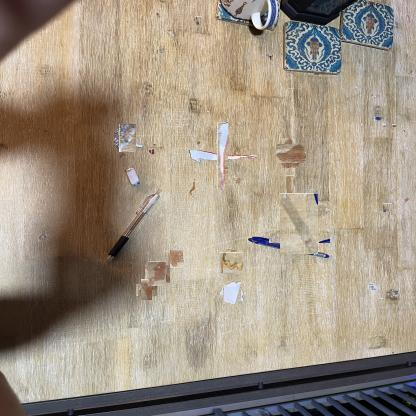dirty: (275, 199, 324, 249), (203, 137, 243, 176), (116, 127, 140, 150), (220, 251, 243, 274), (221, 282, 243, 302), (190, 179, 198, 197)
liquid: (279, 141, 303, 165), (147, 263, 168, 285), (138, 282, 155, 298), (168, 251, 184, 268), (286, 175, 294, 204), (234, 178, 241, 184)
mark: (194, 16, 203, 25), (384, 203, 392, 212), (368, 284, 377, 290), (392, 290, 398, 296), (149, 149, 155, 155), (374, 117, 381, 121), (382, 125, 387, 129), (377, 298, 383, 301), (392, 124, 396, 127)
